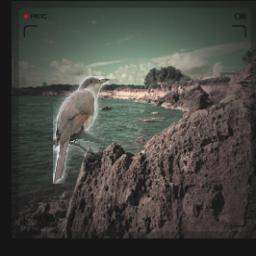Cuckoo: (53, 76, 109, 184)
